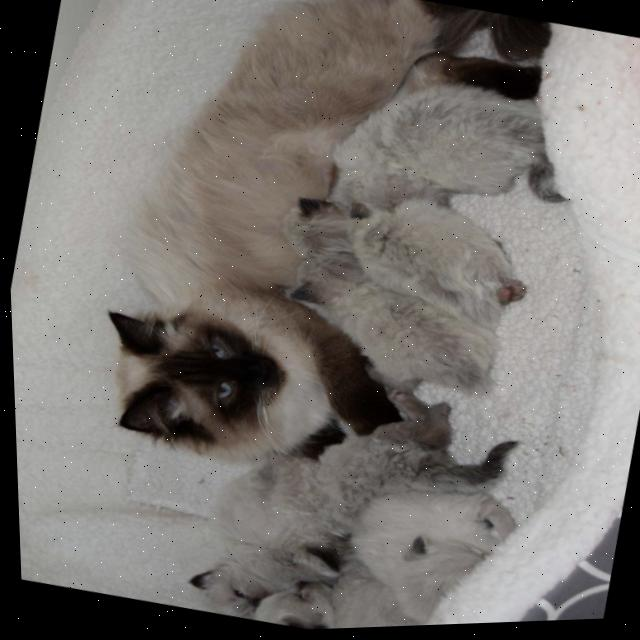Neva Masquerade: (61, 0, 571, 519)
